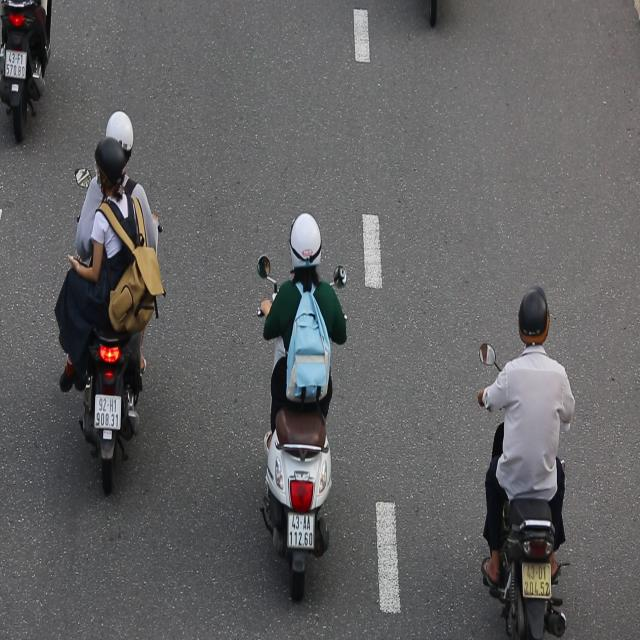motorbike: (58, 107, 172, 503), (246, 212, 354, 610), (472, 280, 577, 640)
